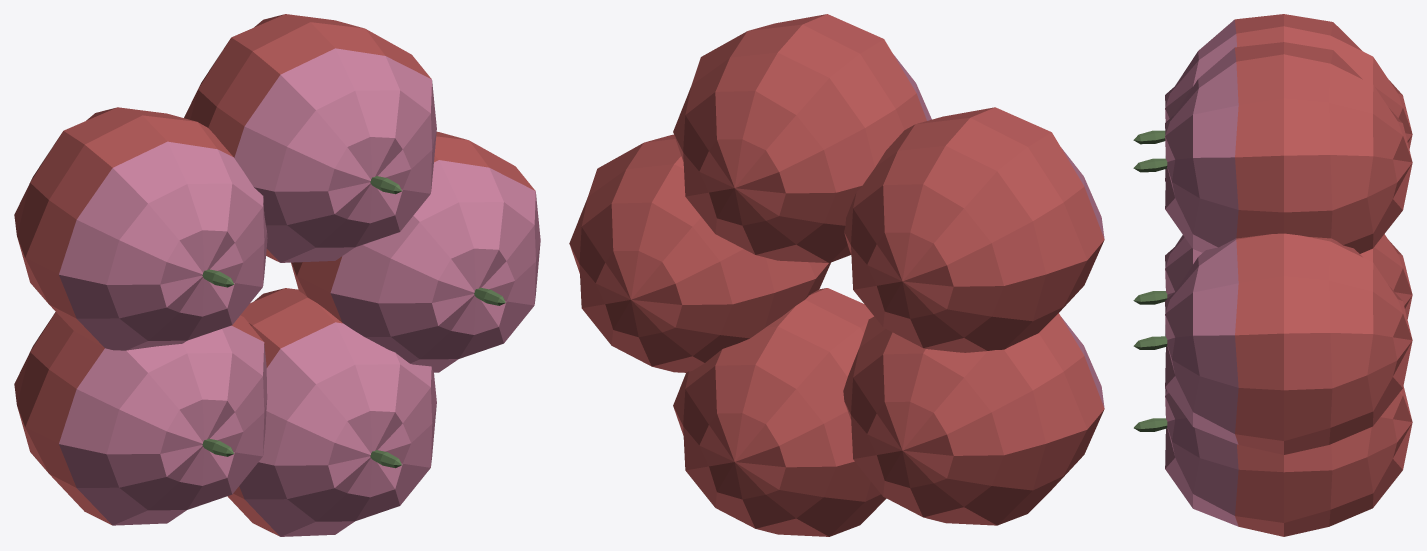
Rendered from lychee.glb.
3 views of the same model, side by side, from view 1: azimuth 30°, elevation 25°; view 2: azimuth 150°, elevation 25°; view 3: azimuth 270°, elevation 25° (orthographic). The views are drawn at different scales.
Visible parts, largest first — view 1: lychee; view 2: lychee; view 3: lychee.
Part boxes in pixels (x1,y1,x2,y2): lychee: [14, 14, 540, 536]; lychee: [569, 14, 1104, 536]; lychee: [1133, 14, 1412, 536].
Size of the model in its own units: 0.0794 by 0.0767 by 0.0408.
